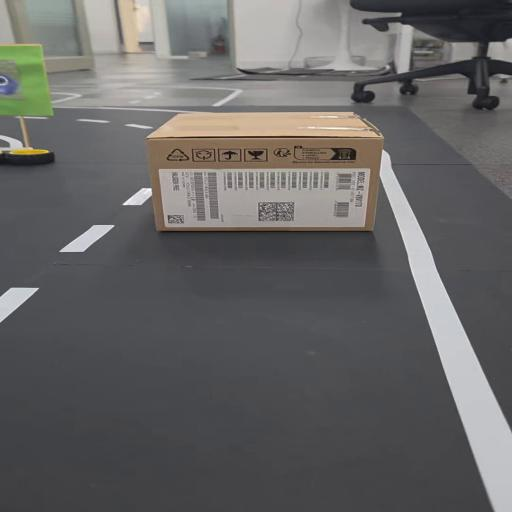Box: (137, 112, 399, 230)
